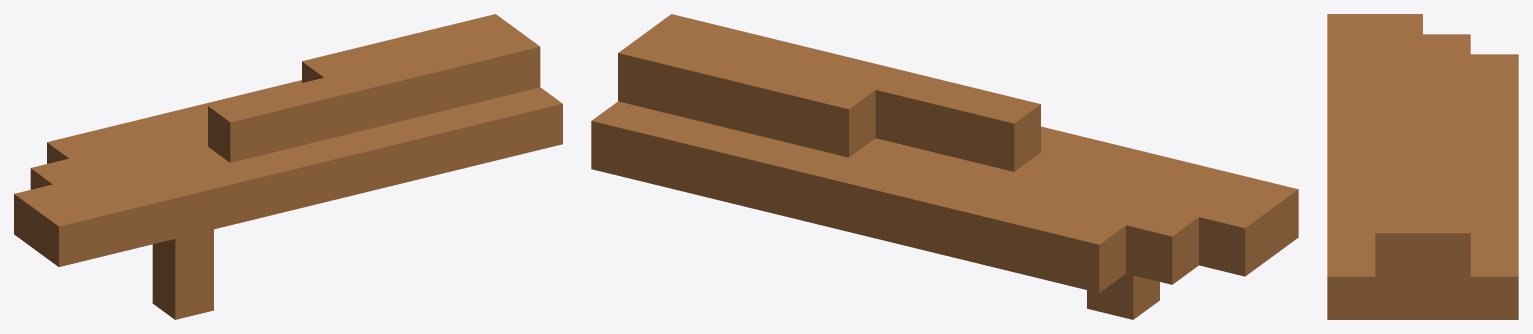
File: PolloYonbrade.obj
The picture shows the model from 3 angles, left to right: view 1: azimuth 30°, elevation 25°; view 2: azimuth 150°, elevation 25°; view 3: azimuth 270°, elevation 25°; orthographic projection. The views are drawn at different scales.
Bounding box in the file's own units: 1.3 × 0.4 × 0.4.
1 material, 1 textured.
